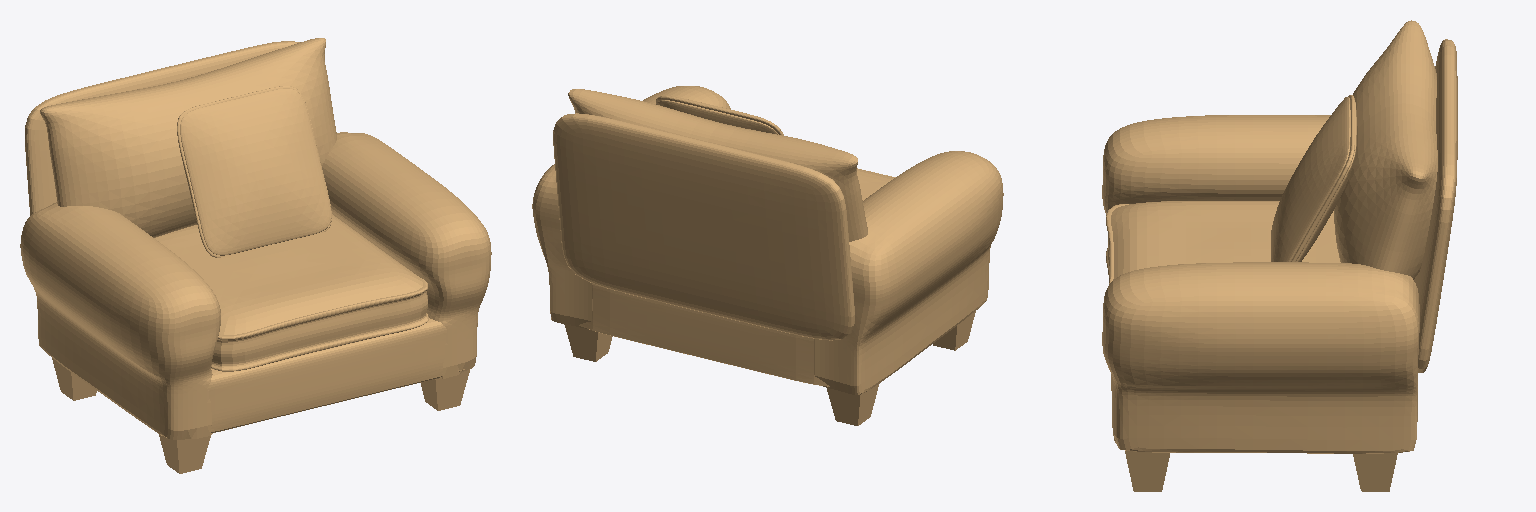
URDF robot description (none):
<robot name="none">
       <link name="none">
            <inertial>
              <mass value="2.0"/>
              <inertia ixx="1.00056666667" ixy="0" ixz="0" iyy="1.10708333333" iyz="0" izz="0.106816666667"/>
            </inertial>
           <visual>
               <origin rpy="1.57 0 0" xyz="0 0 -0.35" />
               <geometry>
                   <mesh filename="singleChair.obj" />
               </geometry>
               <material name="brown">
                 <color rgba="0.87 0.72 0.52 1"/>
               </material>
           </visual>
          <collision>
              <origin rpy="1.57 0 0" xyz="0 0 0" />
              <geometry>
                  <box size="1.000000 0.741117 0.761492" />
              </geometry>
          </collision>

          <inertial>
            <mass value="1.0" />
            <inertia ixx="0.0" ixy="0.0" ixz="0.0" iyy="0.0" iyz="0.0" izz="0.0" />
          </inertial>
      </link>
  </robot>

--- Render facts (derived) ---
Views: 3 orthographic renders of the robot side by side, from view 1: azimuth 30°, elevation 25°; view 2: azimuth 150°, elevation 25°; view 3: azimuth 270°, elevation 25°.
Model none with 1 links and 0 joints (none), rooted at none, posed all joints at 0.
Visible links, largest first — view 1: none; view 2: none; view 3: none.
Link boxes in pixels (x1,y1,x2,y2): none: (20,38,491,473); none: (532,86,1003,425); none: (1102,20,1457,491).
Bounding box of the posed robot: 1 × 0.7618 × 0.7411 m (x, y, z).
Meshes: 1 distinct files referenced, 1 mesh visuals loaded (1 OBJ).